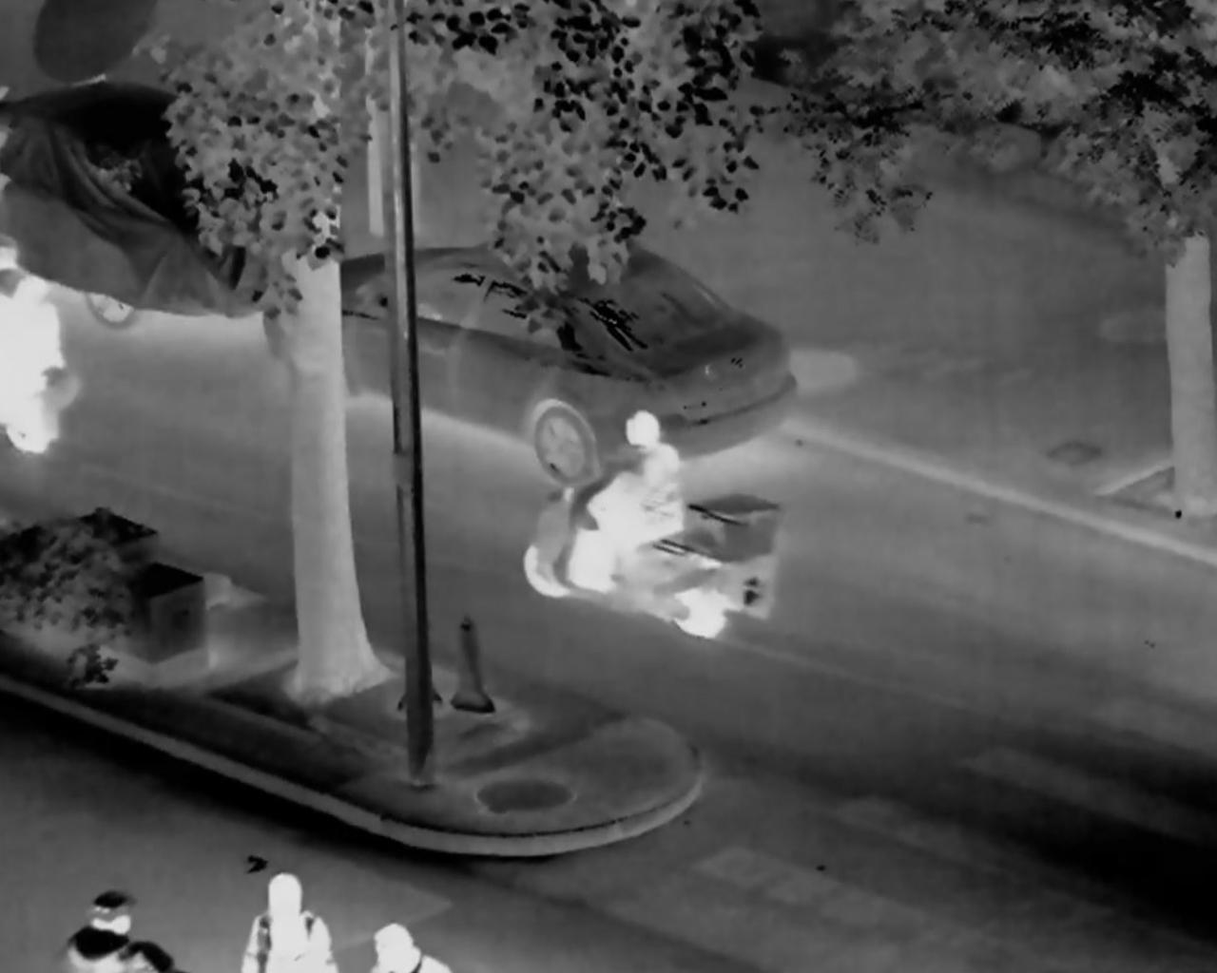person: (585, 411, 686, 582), (55, 889, 174, 973), (241, 874, 336, 973), (366, 925, 446, 973)
